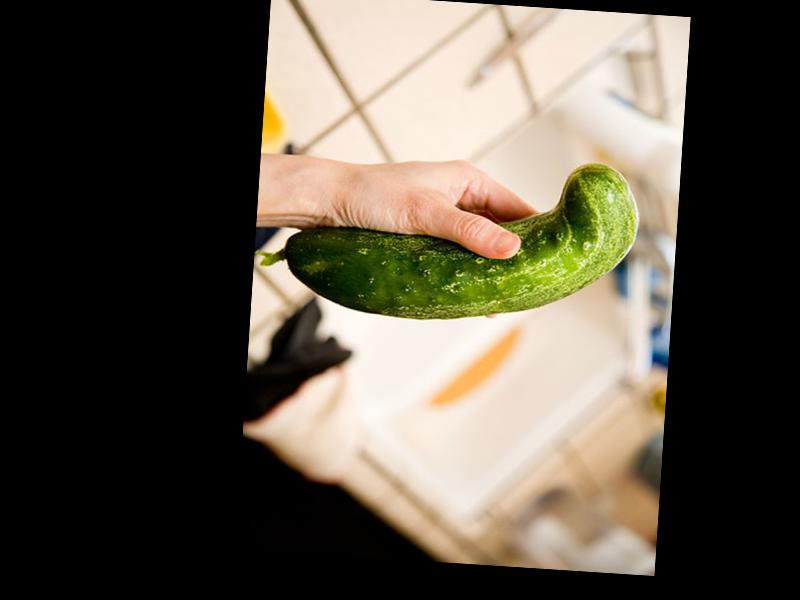Cucumber: (256, 143, 642, 334)
